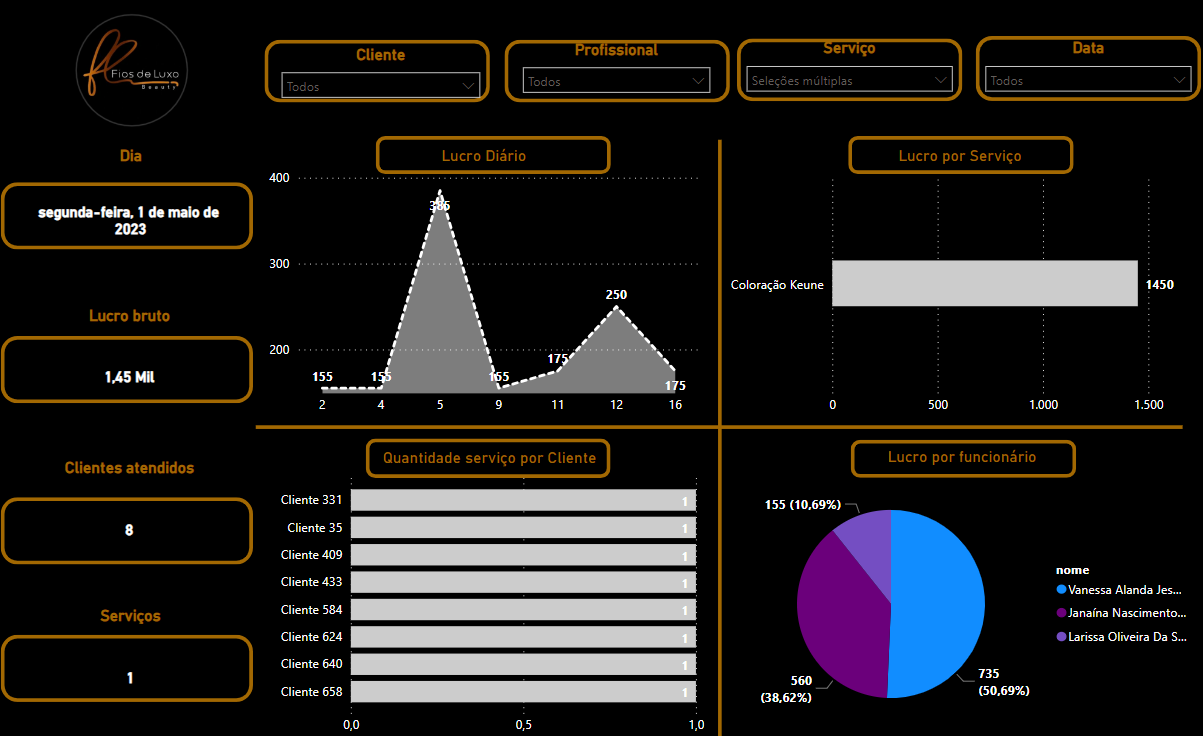

What the dashboard file says about the page in this screenshot:
{"tool":"powerbi","page":{"name":"Overview","canvas":[1300,800],"ordinal":0},"visuals":[{"type":"shape","box":[1049.2,42.9,241.2,69.7],"z":0},{"type":"shape","box":[793.3,45.6,241.2,67],"z":1000},{"type":"shape","box":[544.1,46.9,241.2,67],"z":2000},{"type":"shape","box":[286.8,46.9,241.2,67],"z":3000},{"type":"slicer","title":"Serviço","fields":{"Values":["d_servico.nome"]},"box":[793.3,45.6,241.2,64.3],"z":4000},{"type":"slicer","title":"Cliente","fields":{"Values":["d_cliente.nome"]},"box":[294.8,52.3,233.2,61.6],"z":5000},{"type":"slicer","title":"Profissional","fields":{"Values":["d_funcionario.nome"]},"box":[553.4,46.9,221.1,64.3],"z":6000},{"type":"pieChart","title":"Lucro por funcionário","fields":{"Category":["d_funcionario.nome"],"Y":["Sum(fato_pagamento.valor_pago)"]},"box":[777.8,483.3,515,317.1],"z":7000},{"type":"card","title":"Lucro bruto","fields":{"Values":["Sum(fato_pagamento.valor_pago)"]},"box":[17.4,332.3,249.2,135.3],"z":8000},{"type":"slicer","title":"Data","fields":{"Values":["d_agenda.data"]},"box":[1049.2,45.6,241.2,64.3],"z":9000},{"type":"clusteredBarChart","title":"Lucro por Serviço","fields":{"Category":["d_servico.nome"],"Y":["Sum(fato_pagamento.valor_pago)"]},"box":[774.5,160.8,515.9,296.1],"z":10000},{"type":"card","title":"Dia","fields":{"Values":["Min(d_agenda.data)"]},"box":[18.8,160.8,249.2,142],"z":11000},{"type":"card","title":"Clientes atendidos","fields":{"Values":["Count(fato_pagamento.id_cliente)"]},"box":[17.4,495.8,249.2,135.3],"z":12000},{"type":"card","title":"Serviços ","fields":{"Values":["Count(fato_pagamento.id_servico)"]},"box":[19,653.3,248.6,135.8],"z":13000},{"type":"areaChart","title":"Lucro Diário","fields":{"Category":["d_agenda.data.Variation.Hierarquia de datas.Dia"],"Y":["Sum(fato_pagamento.valor_pago)"]},"box":[286.8,160.8,470.4,296.1],"z":14000},{"type":"barChart","title":"Quantidade serviço por Cliente","fields":{"Category":["d_cliente.nome"],"Y":["CountNonNull(fato_pagamento.id_cliente)"]},"box":[293,484.8,469.7,315.6],"z":15000},{"type":"image","box":[33.5,0,219.8,160.8],"z":16000},{"type":"shape","box":[4,199.7,270.7,72.4],"z":17000},{"type":"shape","box":[4,364.5,270.7,72.4],"z":18000},{"type":"shape","box":[4,684.8,270.7,72.4],"z":19000},{"type":"shape","box":[4,537.4,270.7,72.4],"z":20000},{"type":"shape","box":[277.9,457.6,993.7,10.6],"z":21000},{"type":"shape","box":[770.2,154,9.1,638.8],"z":22000},{"type":"shape","box":[912.2,149.5,241.6,40.8],"z":23000},{"type":"shape","box":[915.2,475.7,241.6,40.8],"z":24000},{"type":"shape","box":[406.3,149.5,252.2,40.8],"z":25000},{"type":"shape","box":[395.7,474.2,262.8,42.3],"z":26000}]}

Visuals, with their boxes in screenshot pixels (x1, y1, x2, y2), scaled from the page's 1300x800 canvas onto the 1203x736 screenshot:
shape: region(971, 39, 1194, 104)
shape: region(734, 42, 957, 104)
shape: region(504, 43, 727, 105)
shape: region(265, 43, 489, 105)
"Serviço" slicer: region(734, 42, 957, 101)
"Cliente" slicer: region(273, 48, 489, 105)
"Profissional" slicer: region(512, 43, 717, 102)
"Lucro por funcionário" pieChart: region(720, 445, 1196, 735)
"Lucro bruto" card: region(16, 306, 247, 430)
"Data" slicer: region(971, 42, 1194, 101)
"Lucro por Serviço" clusteredBarChart: region(717, 148, 1194, 420)
"Dia" card: region(17, 148, 248, 279)
"Clientes atendidos" card: region(16, 456, 247, 581)
"Serviços " card: region(18, 601, 248, 726)
"Lucro Diário" areaChart: region(265, 148, 701, 420)
"Quantidade serviço por Cliente" barChart: region(271, 446, 706, 735)
image: region(31, 0, 234, 148)
shape: region(4, 184, 254, 250)
shape: region(4, 335, 254, 402)
shape: region(4, 630, 254, 697)
shape: region(4, 494, 254, 561)
shape: region(257, 421, 1177, 431)
shape: region(713, 142, 721, 729)
shape: region(844, 138, 1068, 175)
shape: region(847, 438, 1070, 475)
shape: region(376, 138, 609, 175)
shape: region(366, 436, 609, 475)
